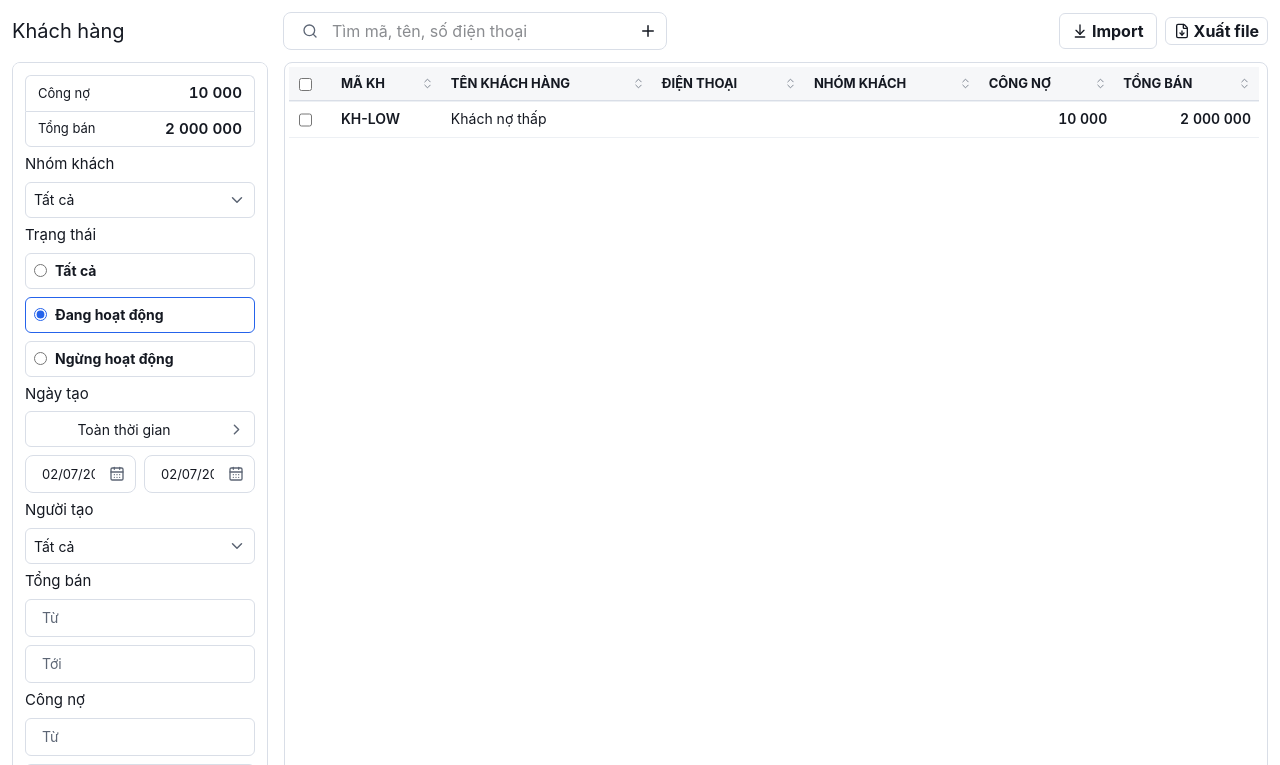
Test case: requests customer sorting from the API so sorting applies before pagination
Expected: the text "KH-LOW" is shown, x1=341 y1=110 x2=400 y2=129
Click the button "Công nợ" at (1048, 84), box x1=989 y1=75 x2=1107 y2=92
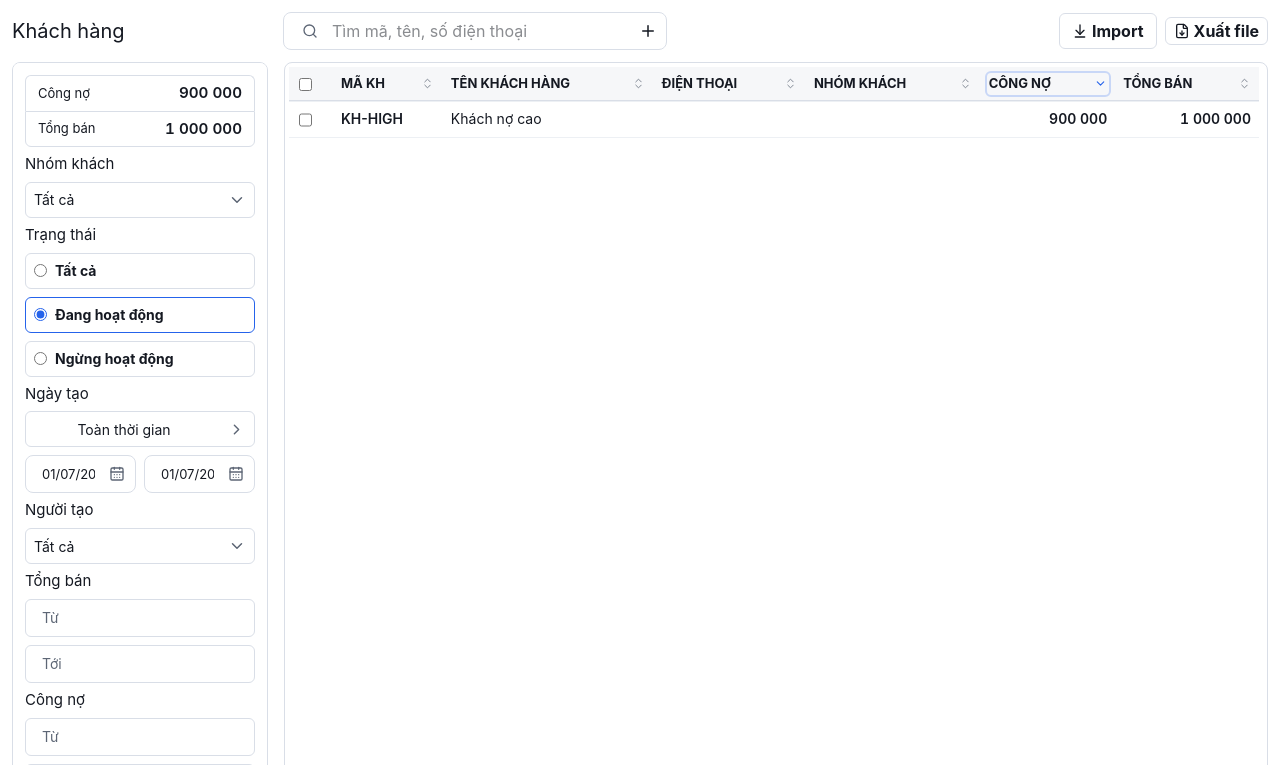
Now the text "KH-HIGH" is shown, box x1=341 y1=110 x2=403 y2=129
